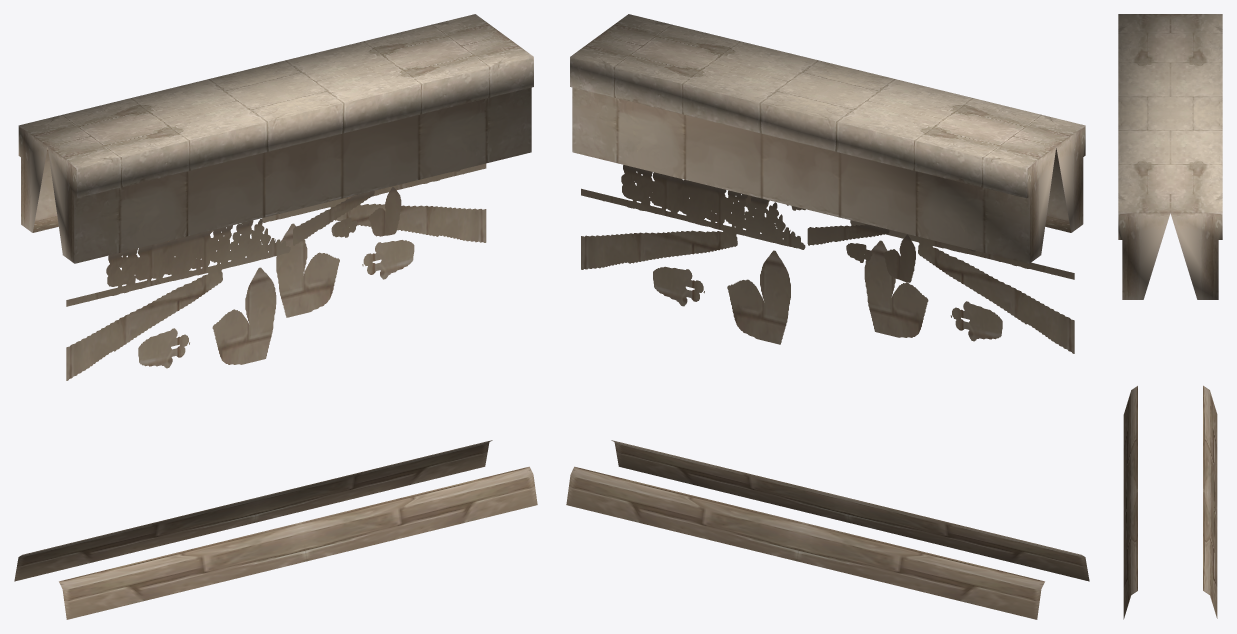
File: DM_wall_01.FBX
3 views of the same model, side by side, from view 1: azimuth 30°, elevation 25°; view 2: azimuth 150°, elevation 25°; view 3: azimuth 270°, elevation 25° (orthographic). The views are drawn at different scales.
Parts seen in each view (by area): view 1: DM_wall_01; view 2: DM_wall_01; view 3: DM_wall_01.
Boxes of the visible parts, x1=… form: DM_wall_01: x1=14, y1=14, x2=537, y2=619; DM_wall_01: x1=566, y1=14, x2=1089, y2=619; DM_wall_01: x1=1118, y1=14, x2=1222, y2=619.
Size of the model in its own units: 14.97 by 13.74 by 3.22.
